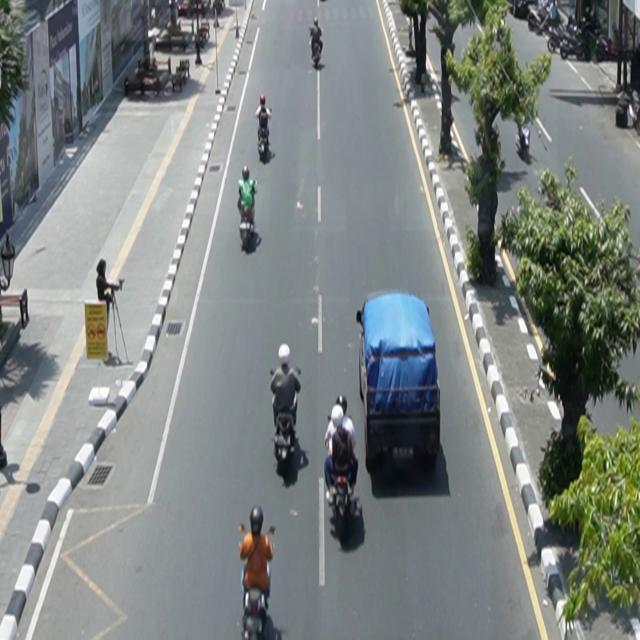truck: (357, 290, 442, 476)
